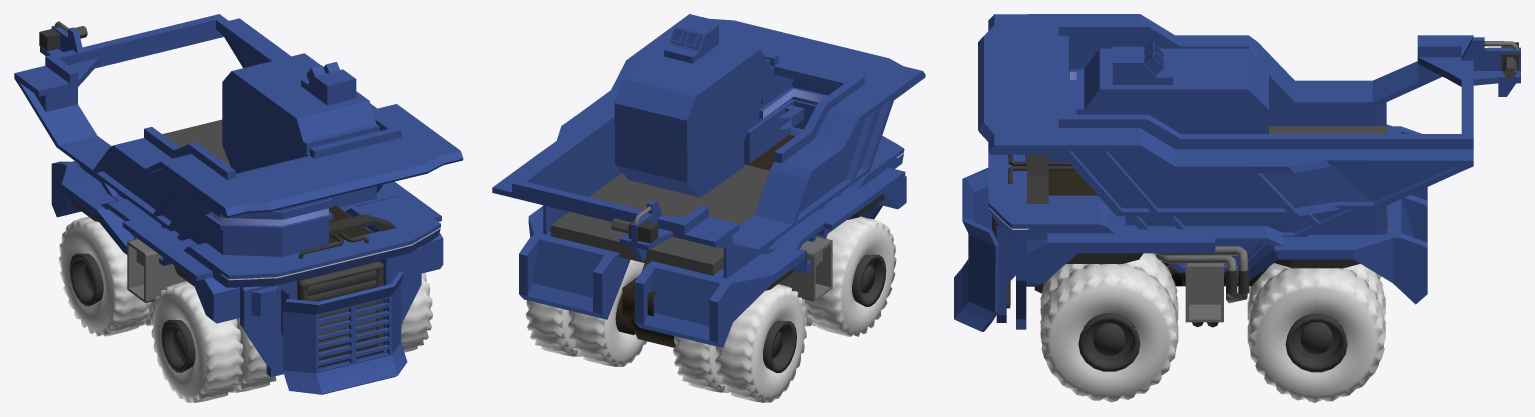
File: euclid supermassive vehicle 3.fbx
3 views of the same model, side by side, from view 1: azimuth 30°, elevation 25°; view 2: azimuth 150°, elevation 25°; view 3: azimuth 270°, elevation 25° (orthographic). The views are drawn at different scales.
Visible parts, largest first — view 1: upper body.006, tires.001, upper body.004, grate plow.001, front shoulders.001, light-deck-unit.001, Cylinder.014, air intake.001, rear shoulders.006, wheel caps.001, maintainence access .001, upper body.005 (+7 smaller); view 2: upper body.006, tires.001, upper body.004, rear shoulders.006, bed .001, Cylinder.014, front shoulders.001, wheel caps.001, maintainence access .001, upper body.005, light-deck-unit.001, rear corner fillers.001 (+4 smaller); view 3: upper body.006, tires.001, upper body.004, rear shoulders.006, front shoulders.001, light-deck-unit.001, wheel caps.001, grate plow.001, maintainence access .001, upper body.005, rear corner fillers.001, access pipes.001 (+9 smaller).
Boxes of the visible parts, x1,y1,x2,y2 form: upper body.006: [14, 14, 463, 265]; tires.001: [59, 216, 432, 402]; upper body.004: [222, 53, 379, 173]; grate plow.001: [282, 271, 407, 394]; front shoulders.001: [101, 181, 443, 377]; light-deck-unit.001: [184, 195, 440, 287]; Cylinder.014: [190, 130, 379, 257]; air intake.001: [297, 261, 383, 367]; rear shoulders.006: [51, 161, 134, 254]; wheel caps.001: [69, 253, 195, 372]; maintainence access .001: [127, 238, 186, 302]; upper body.005: [301, 62, 356, 105]; upper body.006: [492, 14, 925, 261]; tires.001: [526, 216, 896, 402]; upper body.004: [614, 39, 770, 197]; rear shoulders.006: [519, 206, 811, 347]; bed .001: [550, 164, 769, 275]; Cylinder.014: [744, 66, 835, 163]; front shoulders.001: [773, 168, 906, 251]; wheel caps.001: [763, 254, 886, 372]; maintainence access .001: [778, 236, 832, 301]; upper body.005: [664, 18, 718, 63]; light-deck-unit.001: [789, 127, 904, 188]; rear corner fillers.001: [543, 205, 760, 278]; upper body.006: [978, 14, 1520, 272]; tires.001: [1040, 253, 1385, 402]; upper body.004: [1076, 48, 1268, 133]; rear shoulders.006: [1237, 124, 1427, 304]; front shoulders.001: [1016, 214, 1283, 329]; light-deck-unit.001: [988, 152, 1114, 240]; wheel caps.001: [1078, 313, 1347, 372]; grate plow.001: [954, 168, 998, 331]; maintainence access .001: [1185, 263, 1223, 322]; upper body.005: [1112, 42, 1172, 84]; rear corner fillers.001: [1311, 102, 1386, 234]; access pipes.001: [1155, 246, 1247, 303].
Size of the model in its own units: 3677 by 4020 by 6439.
